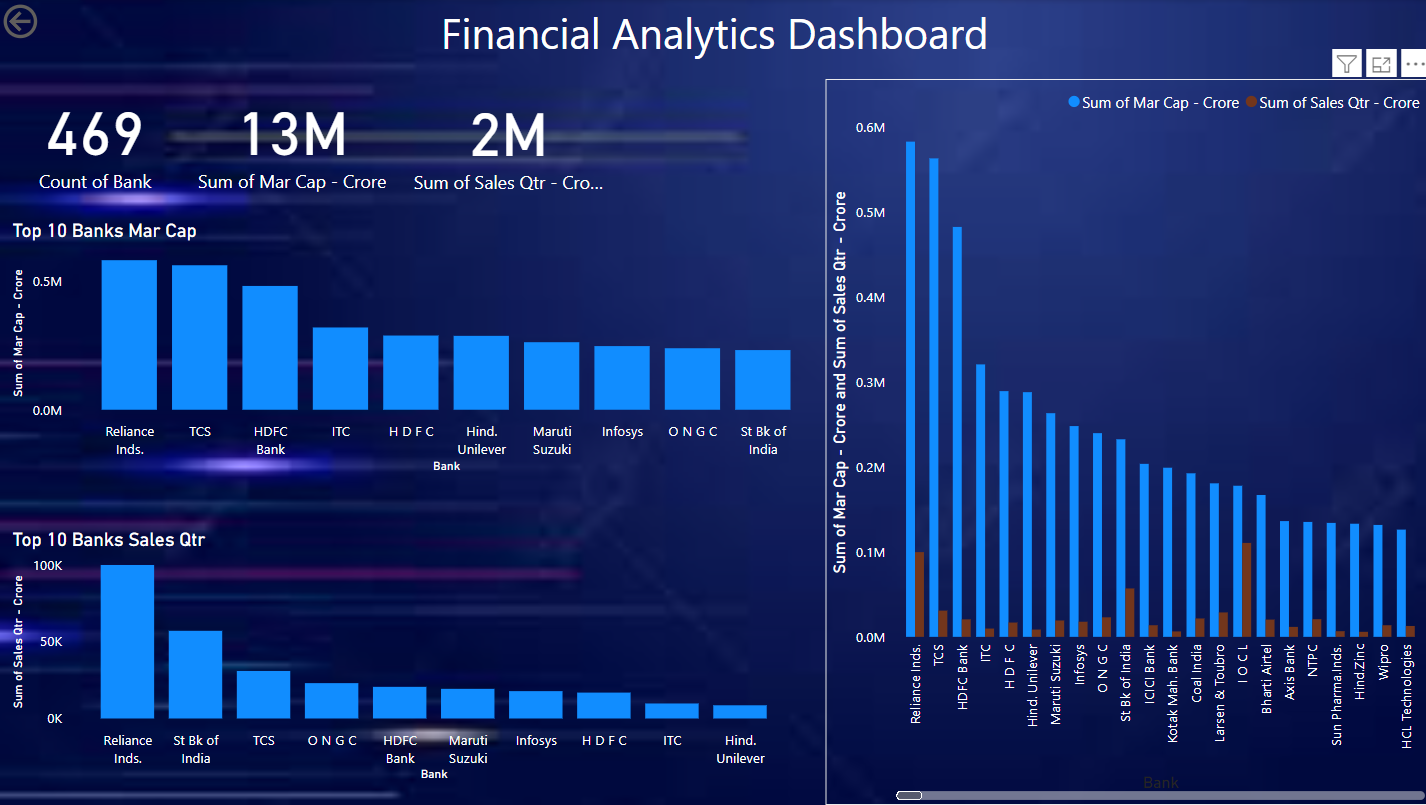

Layout of this report page (visuals, bound fields, positions):
{"tool":"powerbi","page":{"name":"Page 1","canvas":[1280,720],"ordinal":0},"visuals":[{"type":"card","fields":{"Values":["Count(Financial Analytics data.Name)"]},"box":[9.6,71.4,153.7,105.7],"z":0},{"type":"textbox","box":[0,0,1280.3,61.7],"z":1000},{"type":"card","fields":{"Values":["Sum(Financial Analytics data.Mar Cap - Crore)"]},"box":[172.9,71.4,179.8,105.7],"z":2000},{"type":"card","fields":{"Values":["Sum(Financial Analytics data.Sales Qtr - Crore)"]},"box":[366.4,72.7,179.8,105.7],"z":3000},{"type":"clusteredColumnChart","title":"Top 10 Banks Mar Cap","fields":{"Category":["Financial Analytics data.Bank"],"Y":["Sum(Financial Analytics data.Mar Cap - Crore)"]},"box":[8.1,196.5,731.4,231.4],"z":4000},{"type":"clusteredColumnChart","title":"Top 10 Banks Sales Qtr","fields":{"Category":["Financial Analytics data.Bank"],"Y":["Sum(Financial Analytics data.Sales Qtr - Crore)"]},"box":[8.1,472.1,709.3,231.4],"z":5000},{"type":"clusteredColumnChart","fields":{"Category":["Financial Analytics data.Bank"],"Y":["Sum(Financial Analytics data.Mar Cap - Crore)","Sum(Financial Analytics data.Sales Qtr - Crore)"]},"box":[739.6,71.4,540.7,649.1],"z":6000},{"type":"actionButton","box":[0,0,100,40],"z":7000},{"type":"slicer","fields":{"Values":["Financial Analytics data.Bank"]},"box":[546.5,95.3,193,83.7],"z":7001}]}

Visuals, with their boxes in screenshot pixels (x1, y1, x2, y2), scaled from the page's 1280x720 canvas onto the 1426x805 screenshot:
card - Count(Financial Analytics data.Name): (x1=11, y1=80, x2=182, y2=198)
textbox: (x1=0, y1=0, x2=1425, y2=69)
card - Sum(Financial Analytics data.Mar Cap - Crore): (x1=193, y1=80, x2=393, y2=198)
card - Sum(Financial Analytics data.Sales Qtr - Crore): (x1=408, y1=81, x2=609, y2=199)
"Top 10 Banks Mar Cap" clusteredColumnChart: (x1=9, y1=220, x2=824, y2=478)
"Top 10 Banks Sales Qtr" clusteredColumnChart: (x1=9, y1=528, x2=799, y2=787)
clusteredColumnChart - Financial Analytics data.Bank x Sum(Financial Analytics data.Mar Cap - Crore): (x1=824, y1=80, x2=1425, y2=804)
actionButton: (x1=0, y1=0, x2=111, y2=45)
slicer - Financial Analytics data.Bank: (x1=609, y1=107, x2=824, y2=200)
